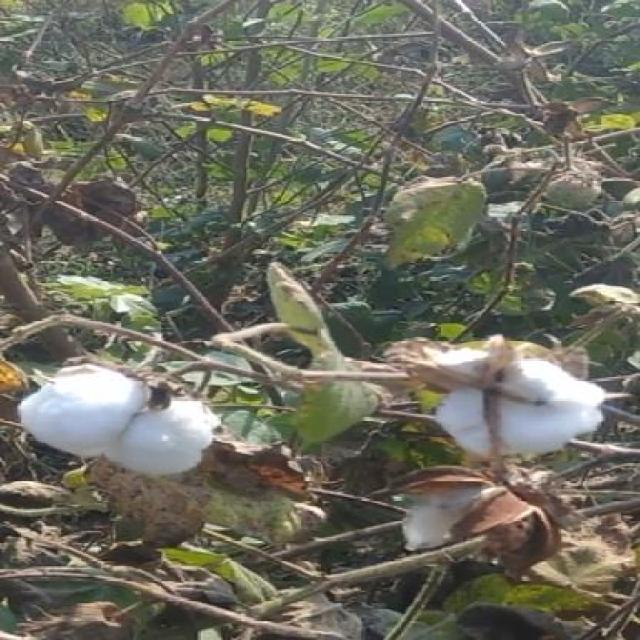cotton_ready: (370, 336, 599, 484), (21, 346, 228, 496)
